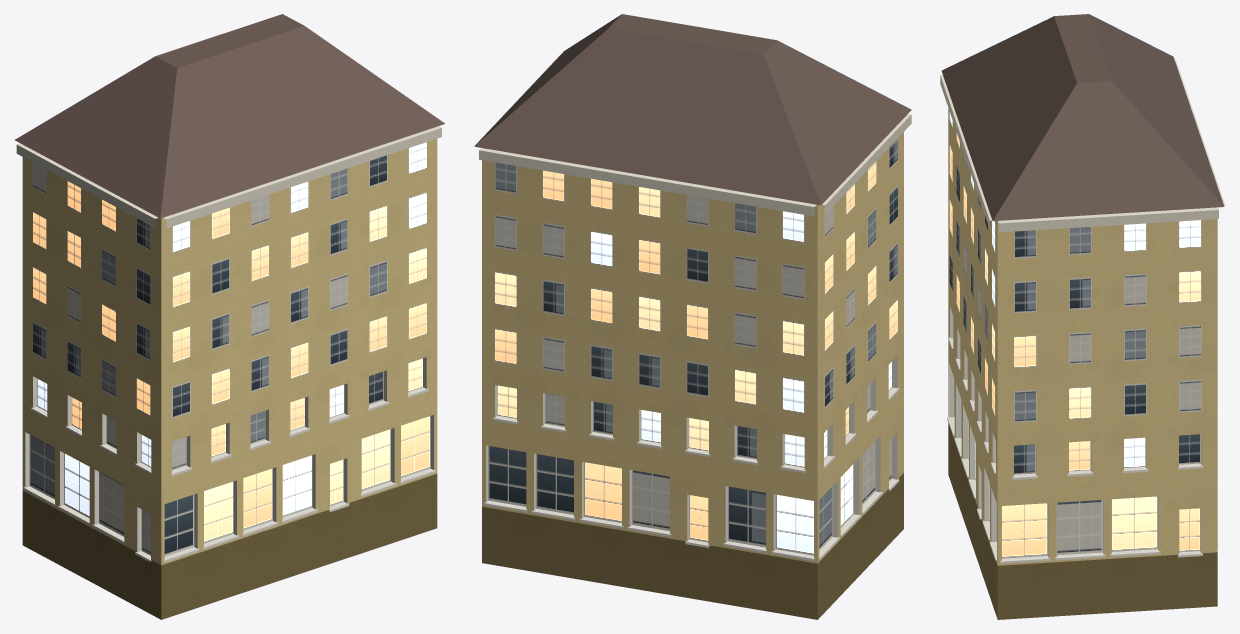
The model's file is z3c_al_s_ochre.glb.
3 renders of one model, left to right at view 1: azimuth 30°, elevation 25°; view 2: azimuth 150°, elevation 25°; view 3: azimuth 270°, elevation 25°, orthographic. The views are drawn at different scales.
Visible parts, largest first — view 1: z3c_al_s_ochre; view 2: z3c_al_s_ochre; view 3: z3c_al_s_ochre.
Boxes of the visible parts, x1=… form: z3c_al_s_ochre: x1=15, y1=14, x2=445, y2=619; z3c_al_s_ochre: x1=474, y1=14, x2=911, y2=619; z3c_al_s_ochre: x1=940, y1=14, x2=1225, y2=619.
Bounding box in the file's own units: 19.67 × 27.25 × 14.33.
3 materials, 3 textured.
